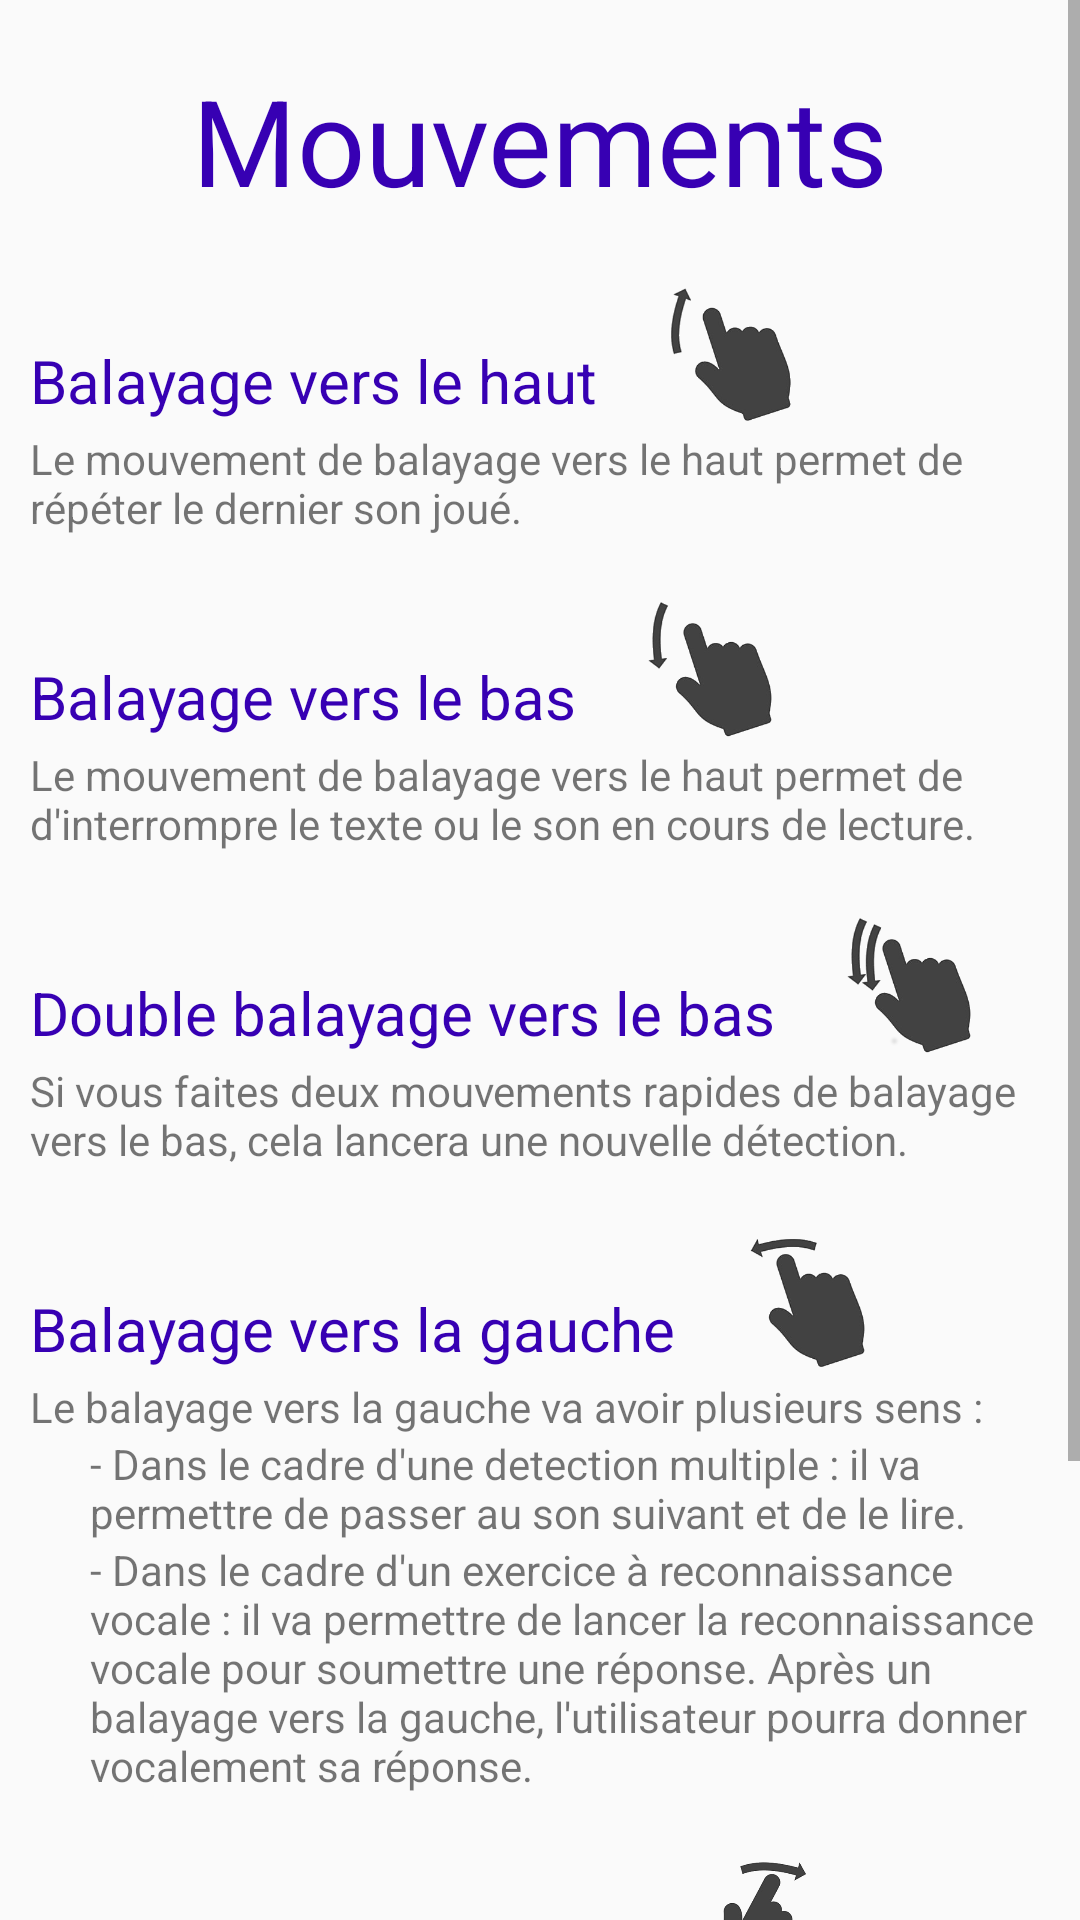

Named icons in this screenshot (1080 × 1920) and their centers, [x,y]:
doubleswipedown: [909,985]
swipedown: [710,669]
swipeleft: [808,1303]
swipeup: [731,354]
